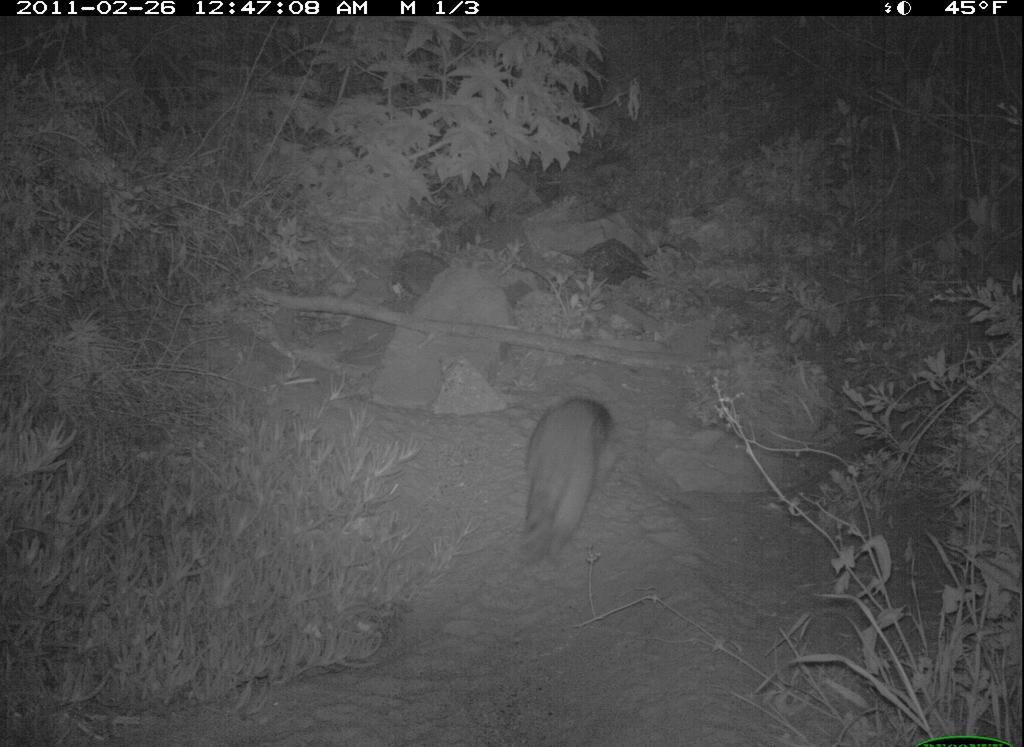raccoon: (483, 382, 634, 573)
